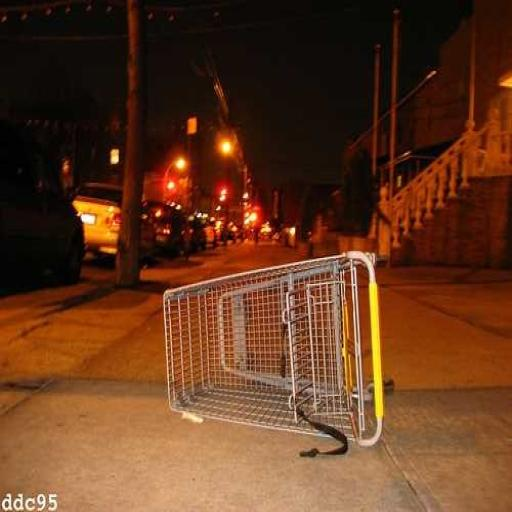shopping_cart: (162, 248, 385, 449)
